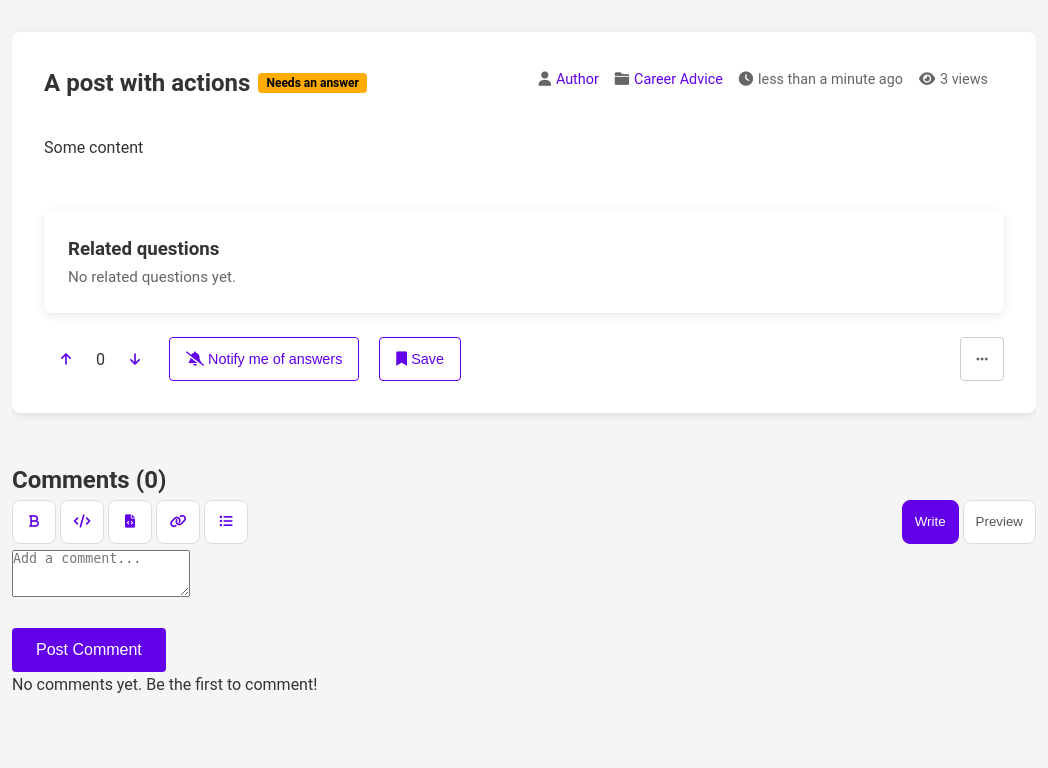
it: PostDetail action row: inline reader actions vs. overflow menu › shows Edit, Delete, Lock, Pin, Move and Report behind one toggle for an admin viewing someone else's post
This screenshot has width=1048, height=768.
Expected: the heading "A post with actions" is shown, [44,64,250,102]
Expected: the text "edit" is not shown
Step 1. Click the button named "more actions" → (982, 359), box [960,337,1004,381]
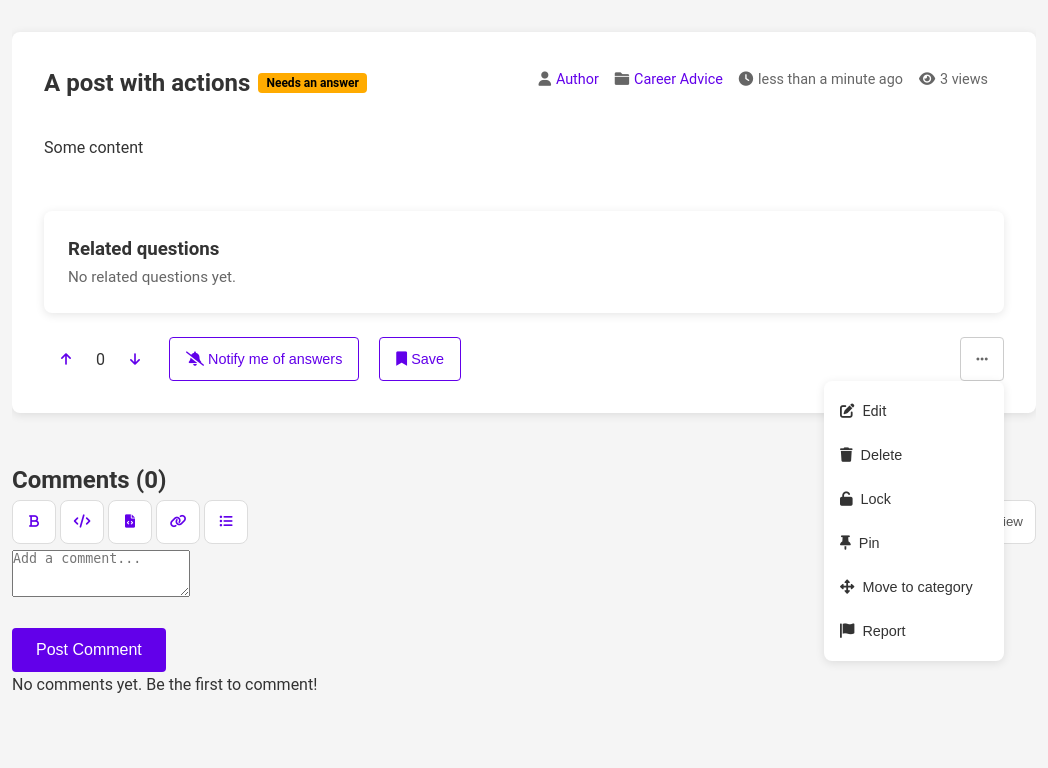
Expected: the link "Edit" is shown, [840,403,887,420]
Expected: the button "Delete" is shown, [824,433,1004,477]
Expected: the button "Lock" is shown, [824,477,1004,521]
